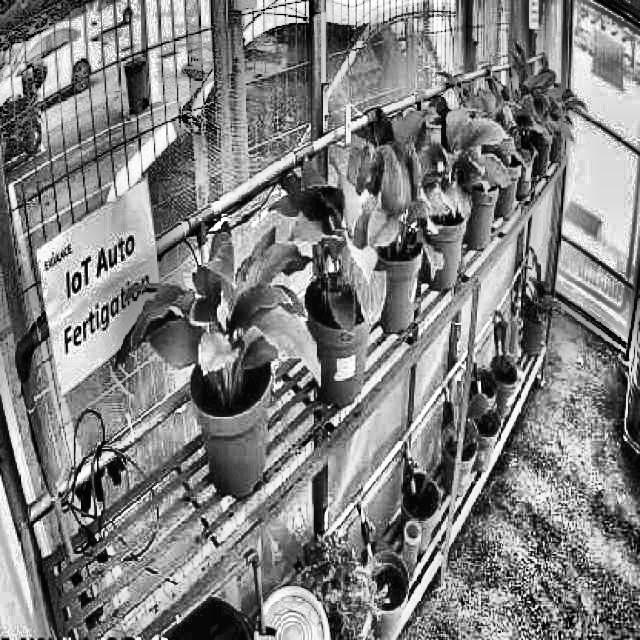plants: (116, 221, 322, 417), (286, 170, 385, 342), (350, 113, 446, 282), (400, 98, 511, 224)
